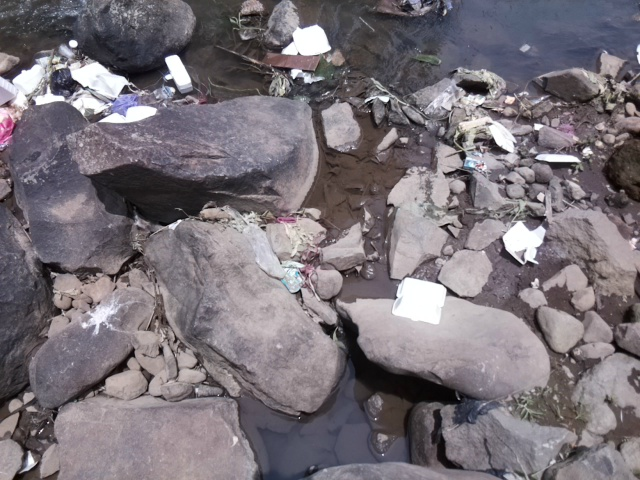Sampah_Plastik: (284, 255, 319, 294), (107, 90, 145, 115), (47, 66, 76, 96), (1, 105, 13, 148)
Sampah_Styrofoam: (392, 277, 448, 327), (502, 221, 546, 267), (72, 58, 125, 96), (161, 51, 199, 95), (287, 25, 335, 55), (493, 120, 519, 152), (533, 153, 582, 168)
